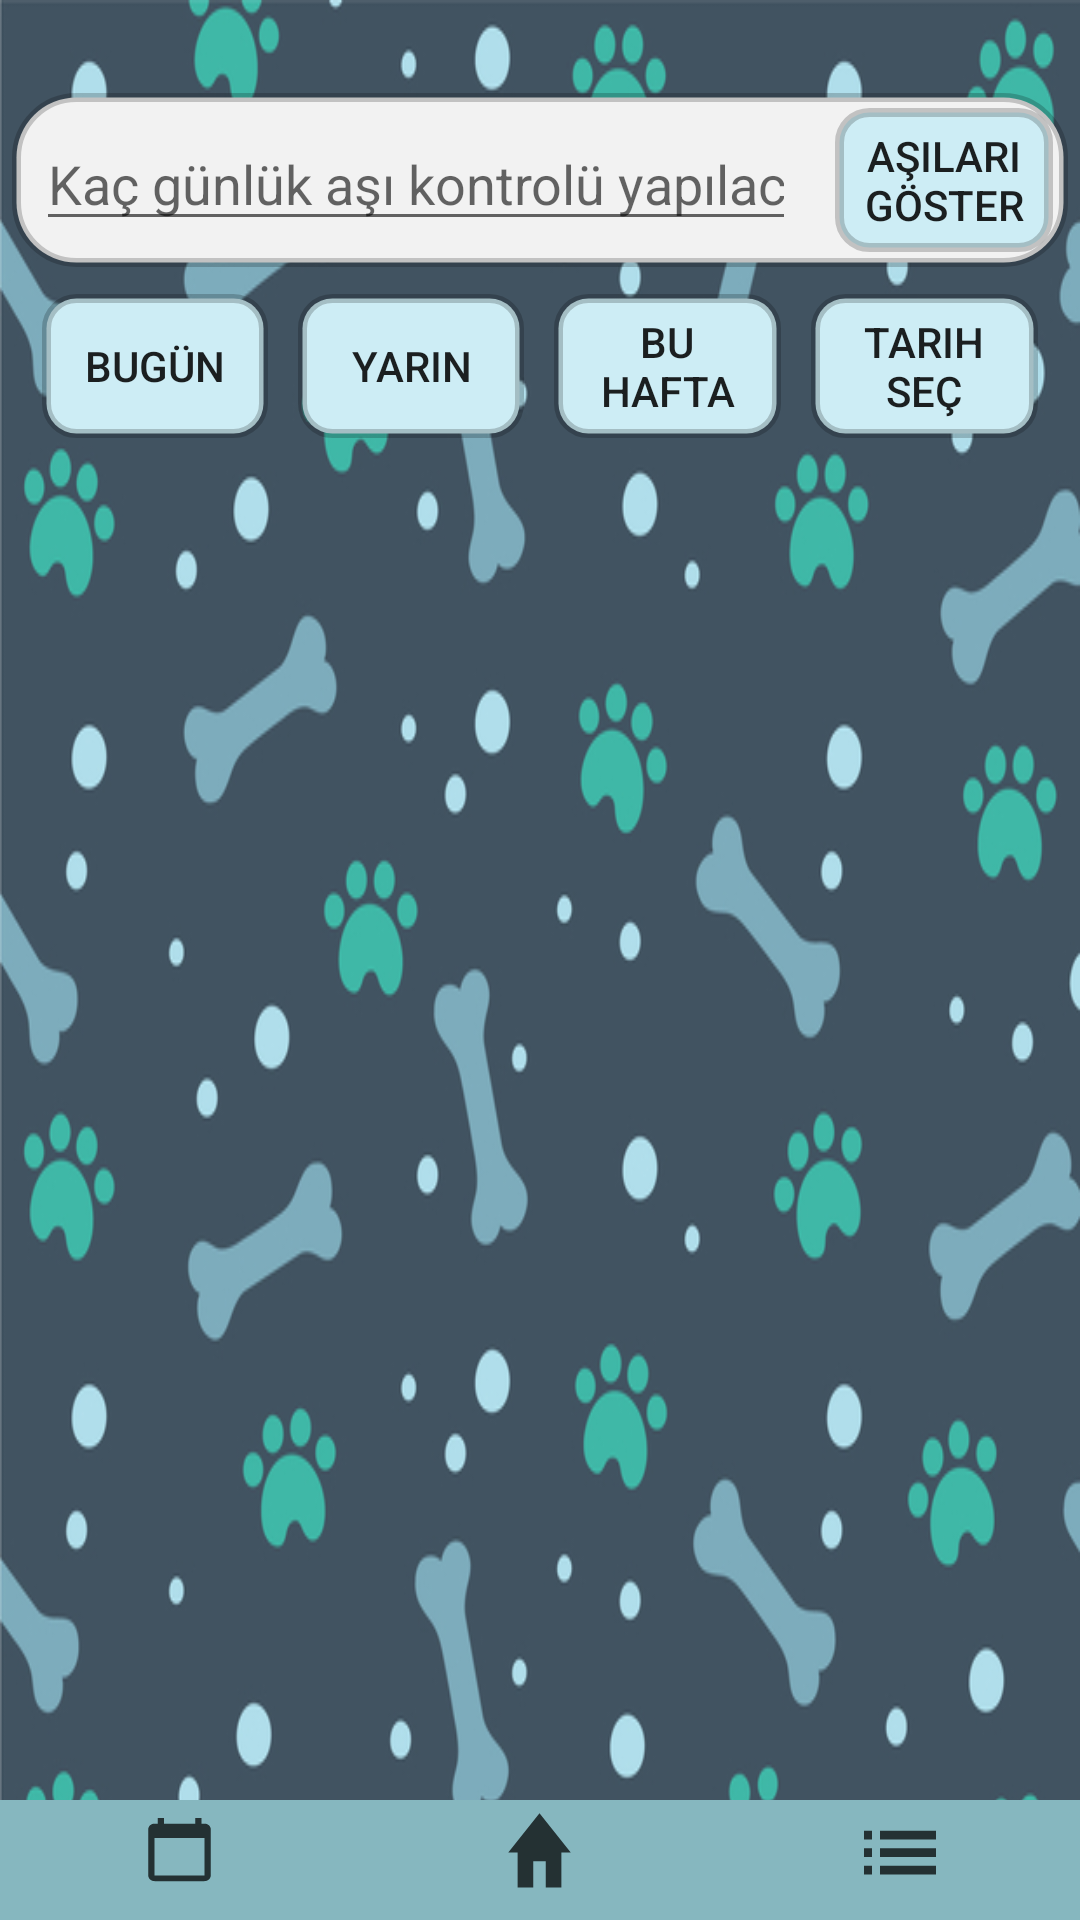

Named icons in this screenshot (1080×1920) and their centers, [x,y]:
hover calendar: [179,1850]
hover home: [539,1850]
hover list: [900,1852]
